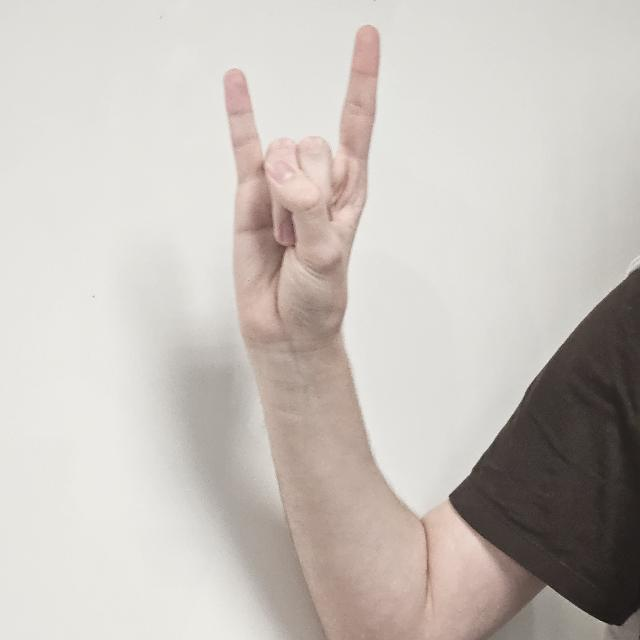L: (220, 19, 382, 361)
